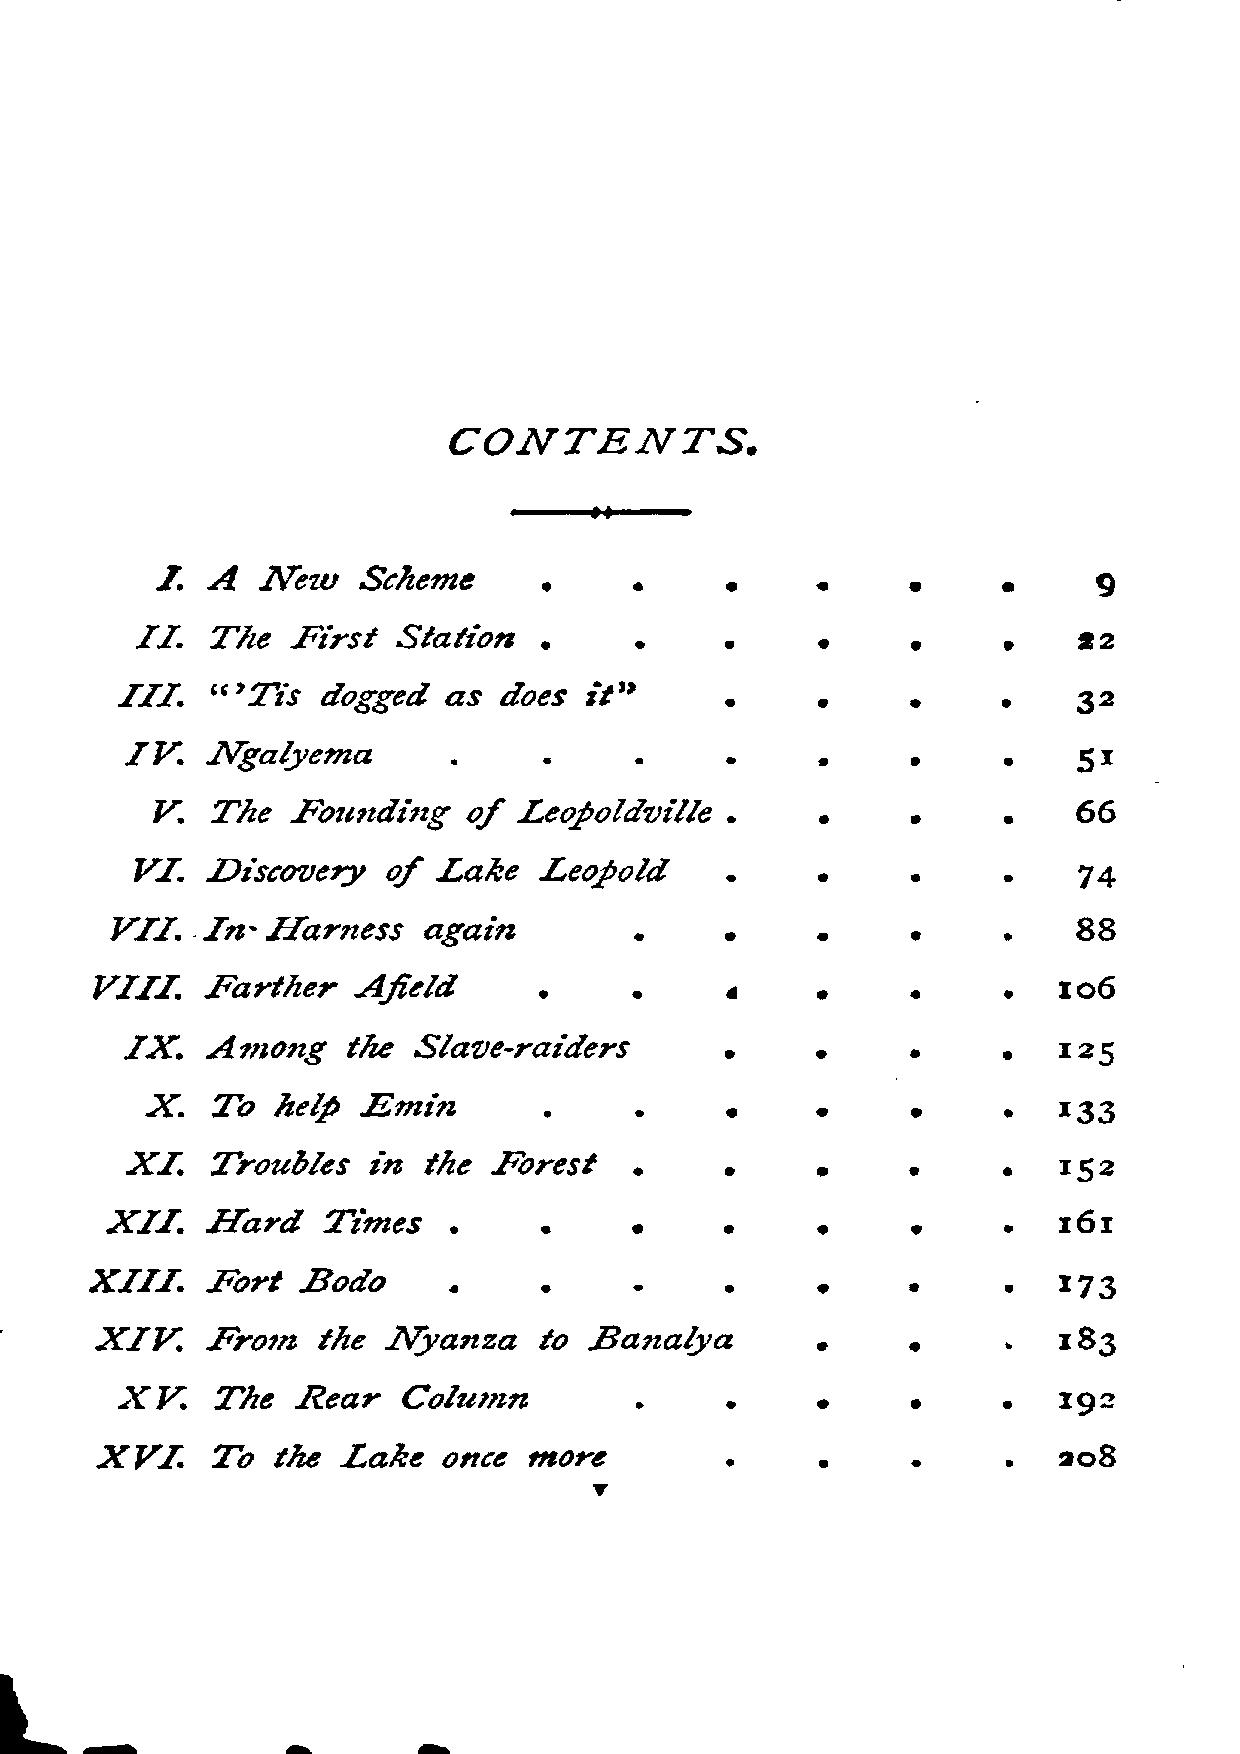TOC_chapter: (95, 1322, 731, 1359), (144, 789, 713, 831), (126, 1023, 637, 1066), (121, 849, 679, 888), (119, 675, 637, 710), (103, 909, 517, 949), (127, 1143, 603, 1178), (133, 615, 538, 655), (81, 966, 464, 1008), (95, 1441, 611, 1469), (107, 1380, 526, 1412), (158, 556, 488, 595), (140, 1084, 458, 1125), (76, 1260, 386, 1300), (101, 1197, 424, 1235), (115, 731, 378, 774)
TOC_pagenumber: (1057, 964, 1121, 1002), (1057, 1031, 1121, 1070), (1053, 1270, 1123, 1304), (1056, 1441, 1121, 1474), (1056, 1095, 1121, 1126), (1056, 1151, 1118, 1184), (1056, 1384, 1118, 1414), (1056, 1202, 1110, 1237), (1078, 789, 1115, 839), (1053, 1329, 1111, 1359), (1074, 918, 1121, 946), (1096, 565, 1127, 605), (1078, 625, 1119, 654), (1070, 682, 1113, 709), (1078, 739, 1113, 772), (1078, 862, 1115, 888)
chapter: (446, 417, 760, 459)
